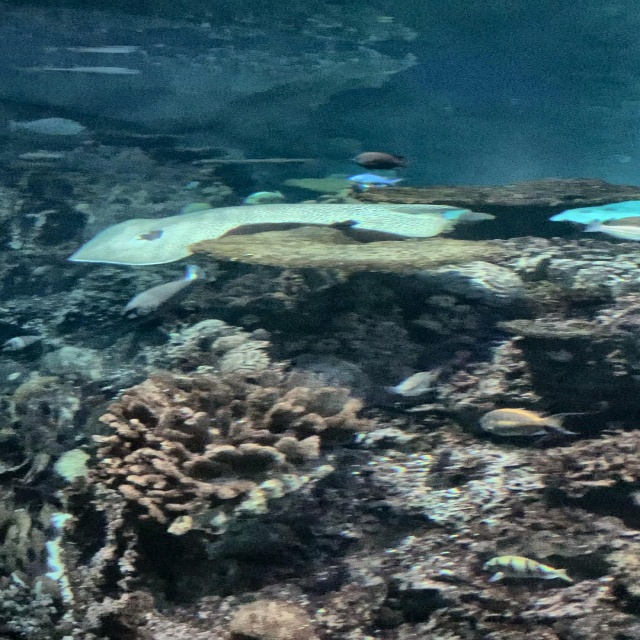fish: (110, 261, 217, 322), (474, 403, 592, 446), (476, 550, 585, 588), (391, 367, 445, 400), (348, 146, 404, 173), (0, 333, 46, 352), (348, 173, 405, 188)
stingray: (70, 201, 452, 264)
